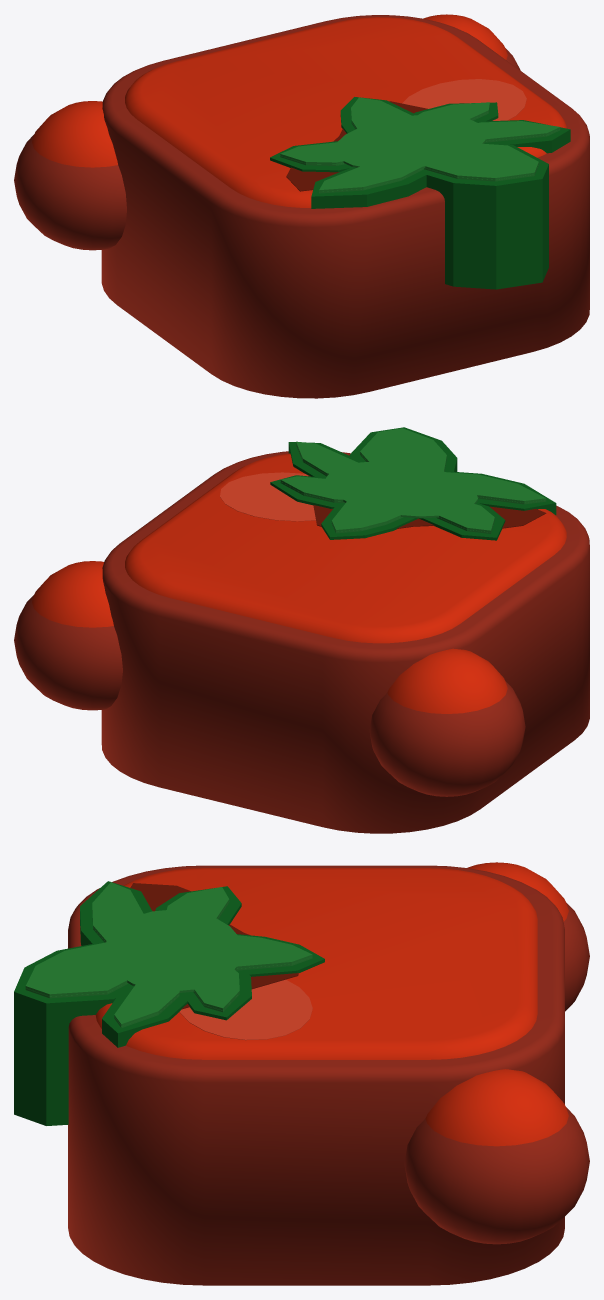
File: body_tomate.fbx
3 views of the same model, one above another, from view 1: azimuth 30°, elevation 25°; view 2: azimuth 150°, elevation 25°; view 3: azimuth 270°, elevation 25° (orthographic). The views are drawn at different scales.
Visible parts, largest first — view 1: body_tomate_corpo, body_tomate_mao_esq, body_tomate_mao; view 2: body_tomate_corpo, body_tomate_mao_esq, body_tomate_mao; view 3: body_tomate_corpo, body_tomate_mao, body_tomate_mao_esq.
Boxes of the visible parts, <box> form: body_tomate_corpo: <box>101,15,589,398</box>; body_tomate_mao_esq: <box>14,101,126,250</box>; body_tomate_mao: <box>423,14,520,70</box>; body_tomate_corpo: <box>101,427,589,833</box>; body_tomate_mao_esq: <box>369,648,525,796</box>; body_tomate_mao: <box>14,561,122,710</box>; body_tomate_corpo: <box>14,865,564,1285</box>; body_tomate_mao: <box>404,1069,589,1244</box>; body_tomate_mao_esq: <box>467,862,589,1011</box>.
Bounding box in the file's own units: 5.4 × 2.07 × 4.63.
1 material, 1 textured.
